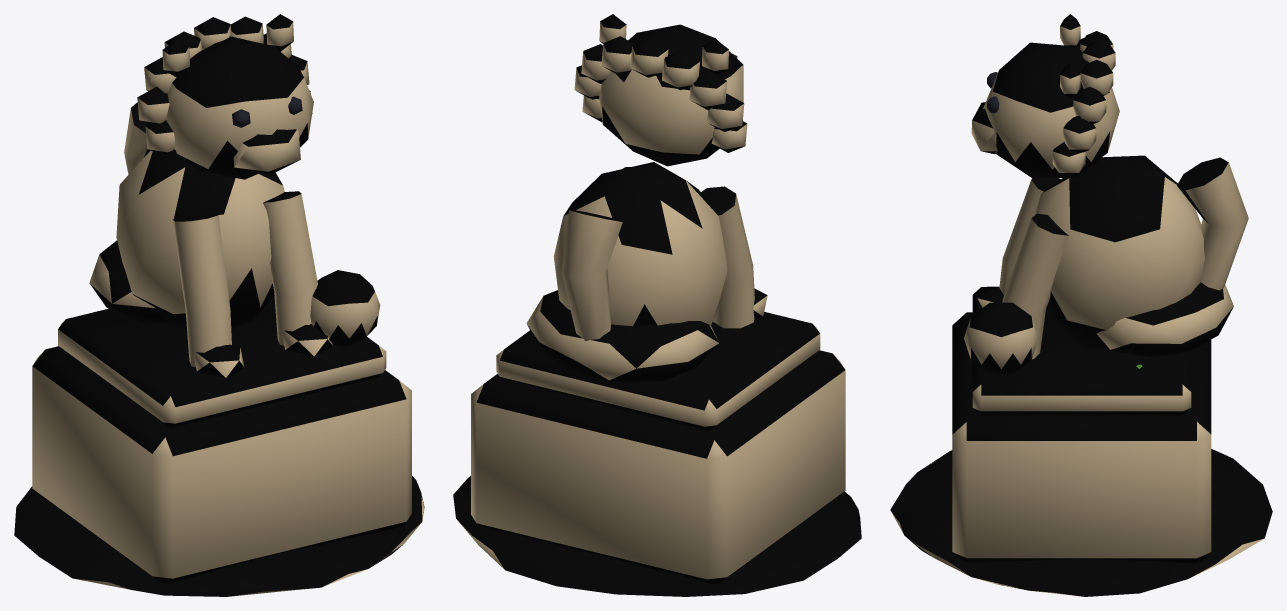
Rendered from Komainu.fbx.
3 views of the same model, side by side, from view 1: azimuth 30°, elevation 25°; view 2: azimuth 150°, elevation 25°; view 3: azimuth 270°, elevation 25° (orthographic). The views are drawn at different scales.
Parts seen in each view (by area): view 1: Komainu; view 2: Komainu; view 3: Komainu.
Boxes of the visible parts, x1,y1,x2,y2 form: Komainu: (14,14,424,596); Komainu: (453,14,861,596); Komainu: (890,14,1272,596).
Size of the model in its own units: 1.41 by 1.81 by 1.33.
Materials: 1 (1 with a texture image).
